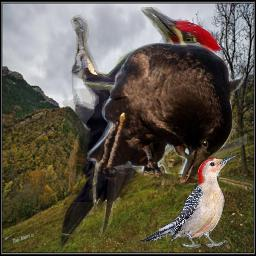Crow: (86, 41, 247, 185)
Woodpecker: (56, 7, 223, 250), (135, 153, 239, 248)
